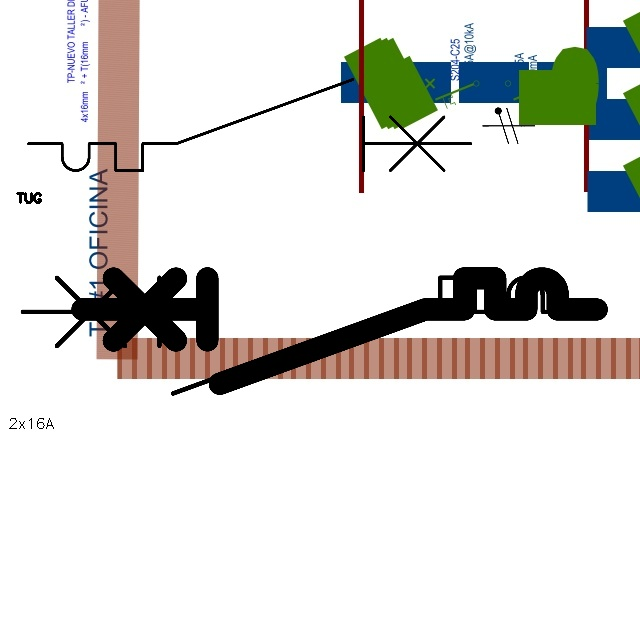interruptor_termomagnetico: (8, 263, 600, 408), (69, 265, 610, 397), (17, 68, 482, 182)
